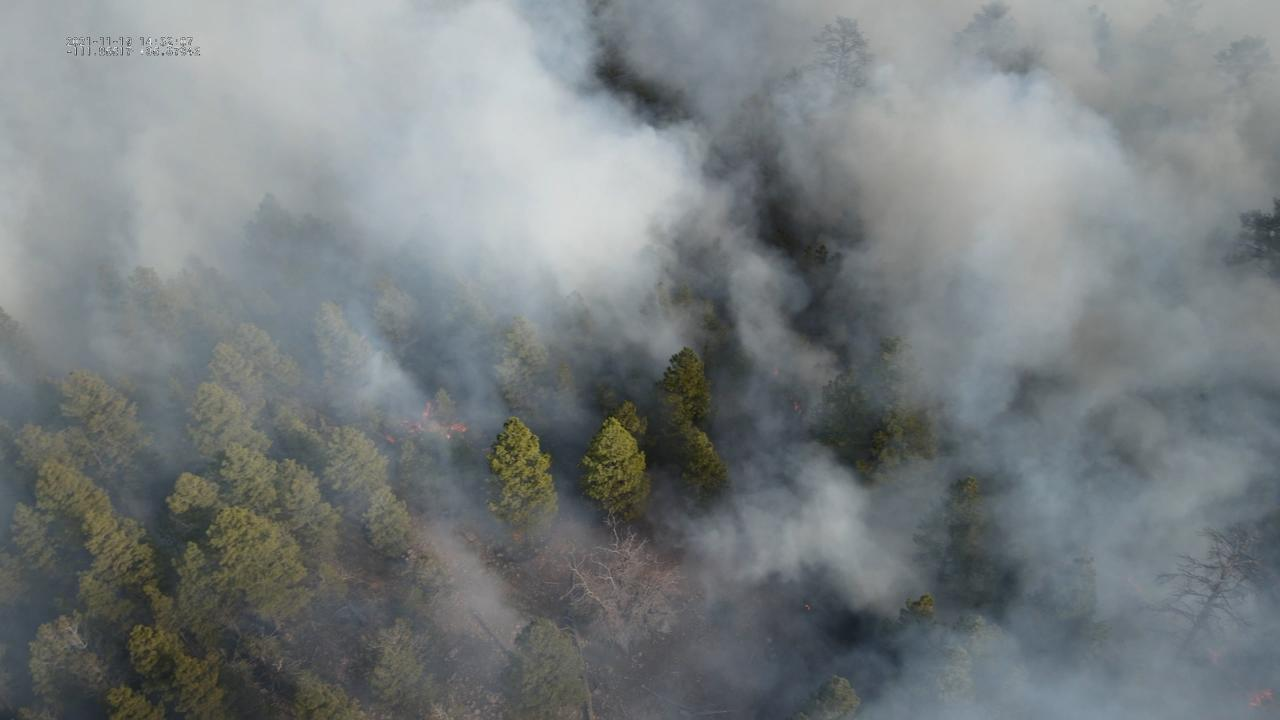fire: (396, 399, 469, 441), (1244, 688, 1275, 711), (382, 434, 398, 445), (792, 400, 802, 413)
smoke: (0, 0, 1280, 720)
